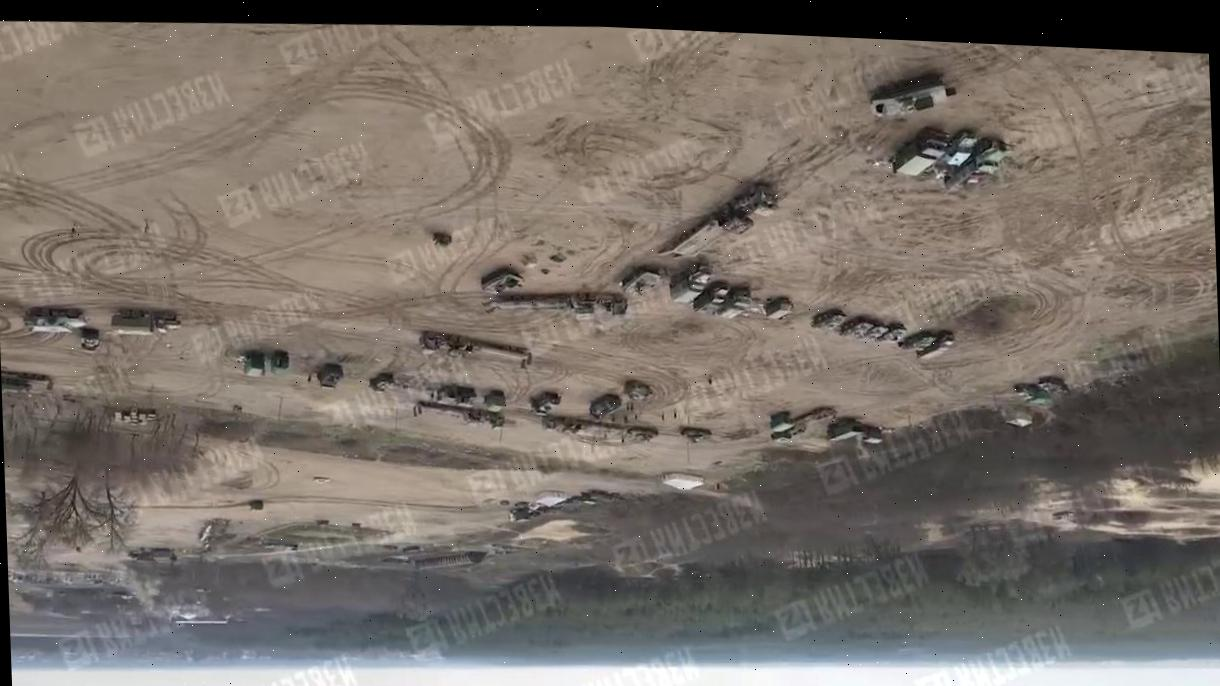armored_car: (24, 299, 87, 337), (623, 380, 652, 402)
car: (944, 130, 978, 167), (764, 295, 792, 320), (310, 474, 330, 487)
person: (304, 367, 313, 385), (517, 358, 526, 374), (526, 347, 532, 370), (706, 373, 714, 387), (625, 399, 632, 414), (660, 410, 666, 423), (620, 432, 625, 447), (672, 406, 677, 420), (624, 412, 629, 426), (630, 402, 634, 413), (634, 411, 637, 422)
tank: (870, 72, 956, 120), (480, 269, 524, 296), (621, 268, 661, 297), (810, 309, 848, 332), (901, 329, 937, 353), (1, 372, 30, 401), (838, 317, 874, 339), (875, 324, 908, 344), (625, 425, 659, 444), (679, 426, 712, 444), (858, 323, 889, 342), (1037, 376, 1067, 395)
truck: (655, 179, 780, 263), (480, 286, 627, 324), (417, 328, 532, 373), (943, 136, 1008, 195), (412, 398, 505, 433), (890, 127, 950, 178), (769, 404, 838, 445), (0, 356, 54, 405), (110, 306, 181, 337), (540, 412, 624, 437), (668, 262, 713, 305), (714, 285, 752, 320), (692, 282, 731, 315), (915, 329, 955, 361), (826, 417, 865, 442), (1014, 382, 1052, 406), (588, 393, 622, 419), (530, 391, 560, 417), (317, 363, 344, 391), (79, 327, 104, 356), (368, 372, 394, 395), (242, 351, 264, 378), (270, 349, 290, 377), (481, 389, 505, 412), (769, 411, 794, 433), (242, 497, 264, 515)
